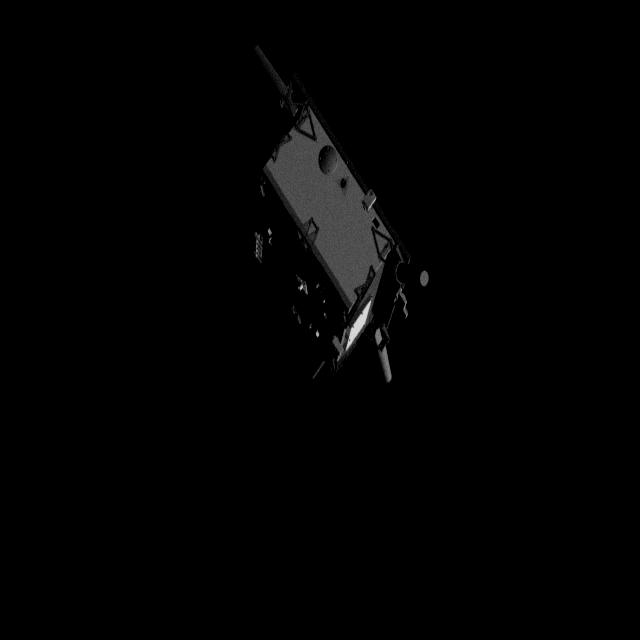satellite: (234, 28, 438, 394)
